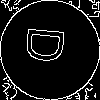D: (25, 25, 74, 66)
